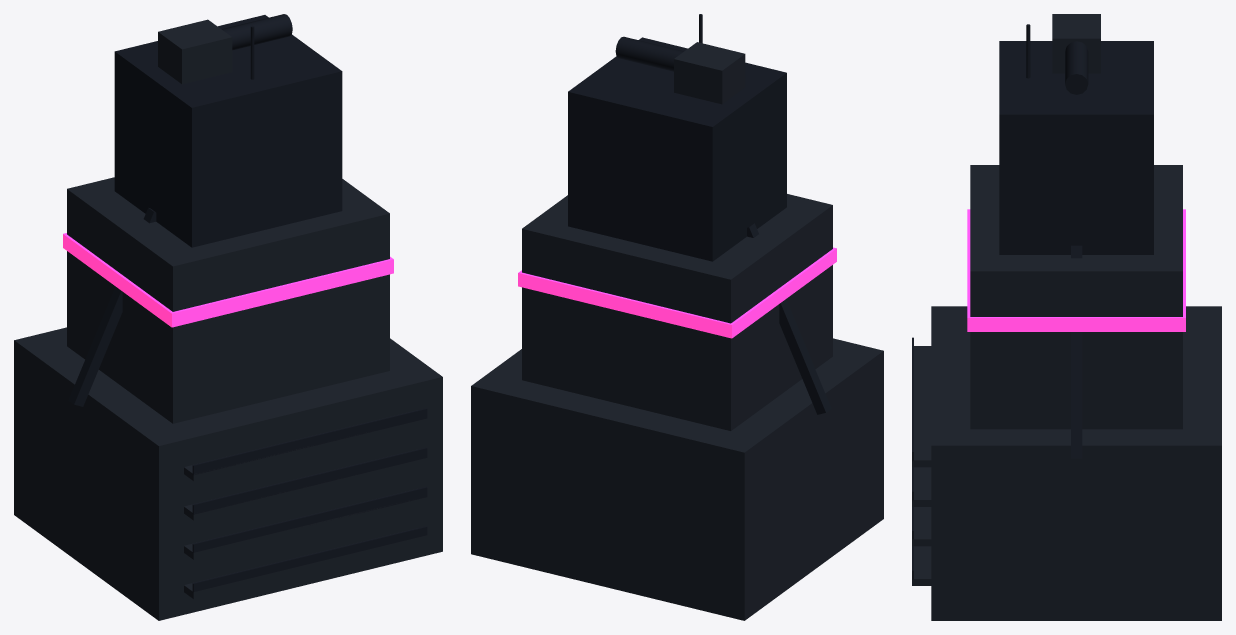
Rendered from secondary_arcology.glb.
3 views of the same model, side by side, from view 1: azimuth 30°, elevation 25°; view 2: azimuth 150°, elevation 25°; view 3: azimuth 270°, elevation 25° (orthographic). The views are drawn at different scales.
Parts seen in each view (by area): view 1: Secondary_Arcology_T2; view 2: Secondary_Arcology_T2; view 3: Secondary_Arcology_T2.
Boxes of the visible parts, x1,y1,x2,y2 form: Secondary_Arcology_T2: (14, 14, 442, 620); Secondary_Arcology_T2: (471, 14, 883, 620); Secondary_Arcology_T2: (912, 14, 1221, 620).
Bounding box in the file's own units: 37.65 × 60 × 32.
